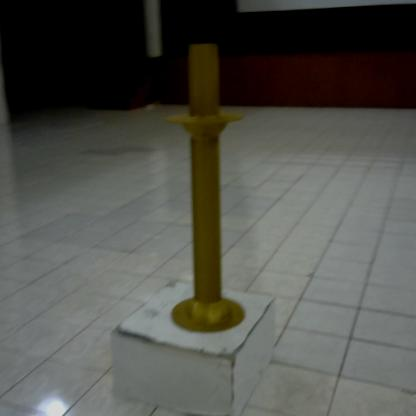pole: (158, 37, 254, 340)
